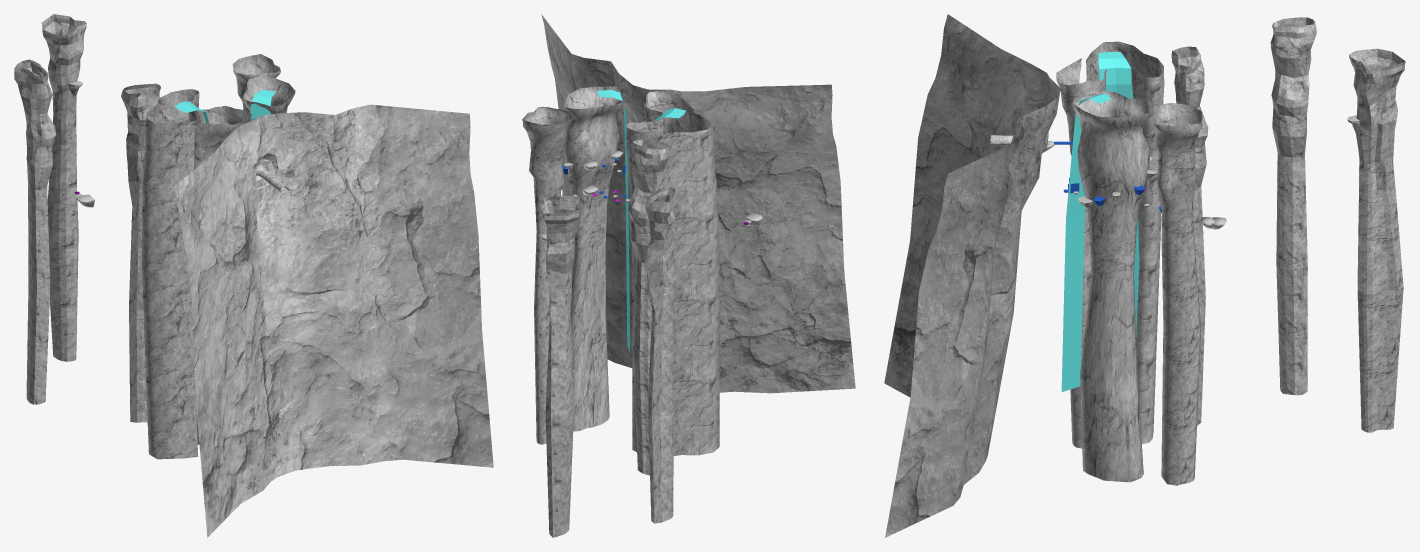
The model's file is Area_01_all.fbx.
3 views of the same model, side by side, from view 1: azimuth 30°, elevation 25°; view 2: azimuth 150°, elevation 25°; view 3: azimuth 270°, elevation 25° (orthographic). The views are drawn at different scales.
Parts seen in each view (by area): view 1: Cliff_00, Cliff_01, Cliff_02.002, Cliff_03.002, Cliff_03.001, Cliff_02, Cliff_04.001, Entrance; view 2: Cliff_00, Cliff_01, Cliff_02, Cliff_02.002, Cliff_03.002, Cliff_04.001, Cliff_03.001, Plane.002; view 3: Cliff_00, Cliff_02, Cliff_02.002, Cliff_04.001, Cliff_03.002, Cliff_01, Plane.002, Cliff_03.001, Plane.001.
Boxes of the visible parts, x1,y1,x2,y2 form: Cliff_00: (174, 104, 493, 537); Cliff_01: (141, 89, 251, 459); Cliff_02.002: (41, 14, 86, 361); Cliff_03.002: (14, 59, 56, 404); Cliff_03.001: (121, 83, 160, 422); Cliff_02: (243, 75, 295, 165); Cliff_04.001: (232, 54, 280, 112); Entrance: (251, 153, 289, 193); Cliff_00: (541, 14, 855, 393); Cliff_01: (626, 91, 719, 456); Cliff_02: (562, 86, 623, 431); Cliff_02.002: (540, 196, 584, 537); Cliff_03.002: (645, 186, 675, 523); Cliff_04.001: (522, 106, 572, 444); Cliff_03.001: (627, 139, 669, 475); Plane.002: (596, 90, 629, 352); Cliff_00: (884, 14, 1060, 537); Cliff_02: (1072, 91, 1149, 482); Cliff_02.002: (1347, 48, 1405, 432); Cliff_04.001: (1154, 103, 1202, 485); Cliff_03.002: (1270, 17, 1316, 395); Cliff_01: (1056, 41, 1164, 448); Plane.002: (1061, 93, 1111, 391); Cliff_03.001: (1171, 46, 1208, 425); Plane.001: (1098, 52, 1139, 337).
Size of the model in its own units: 82031 by 86020 by 108701.
